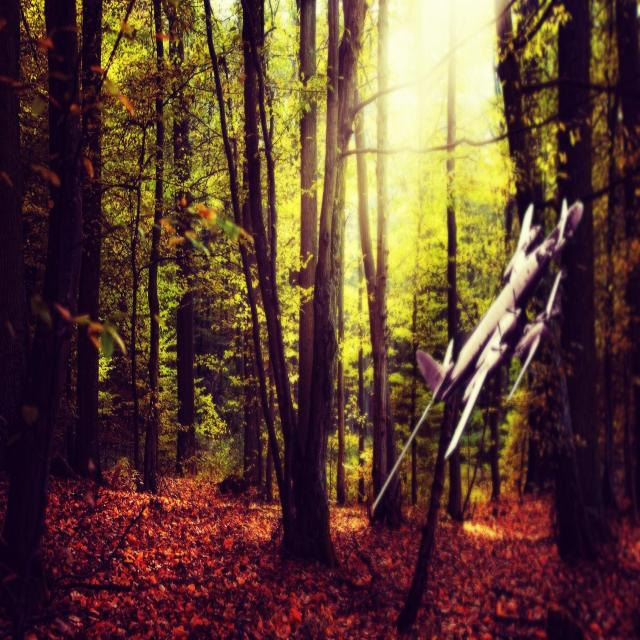airplane: (370, 196, 584, 517)
